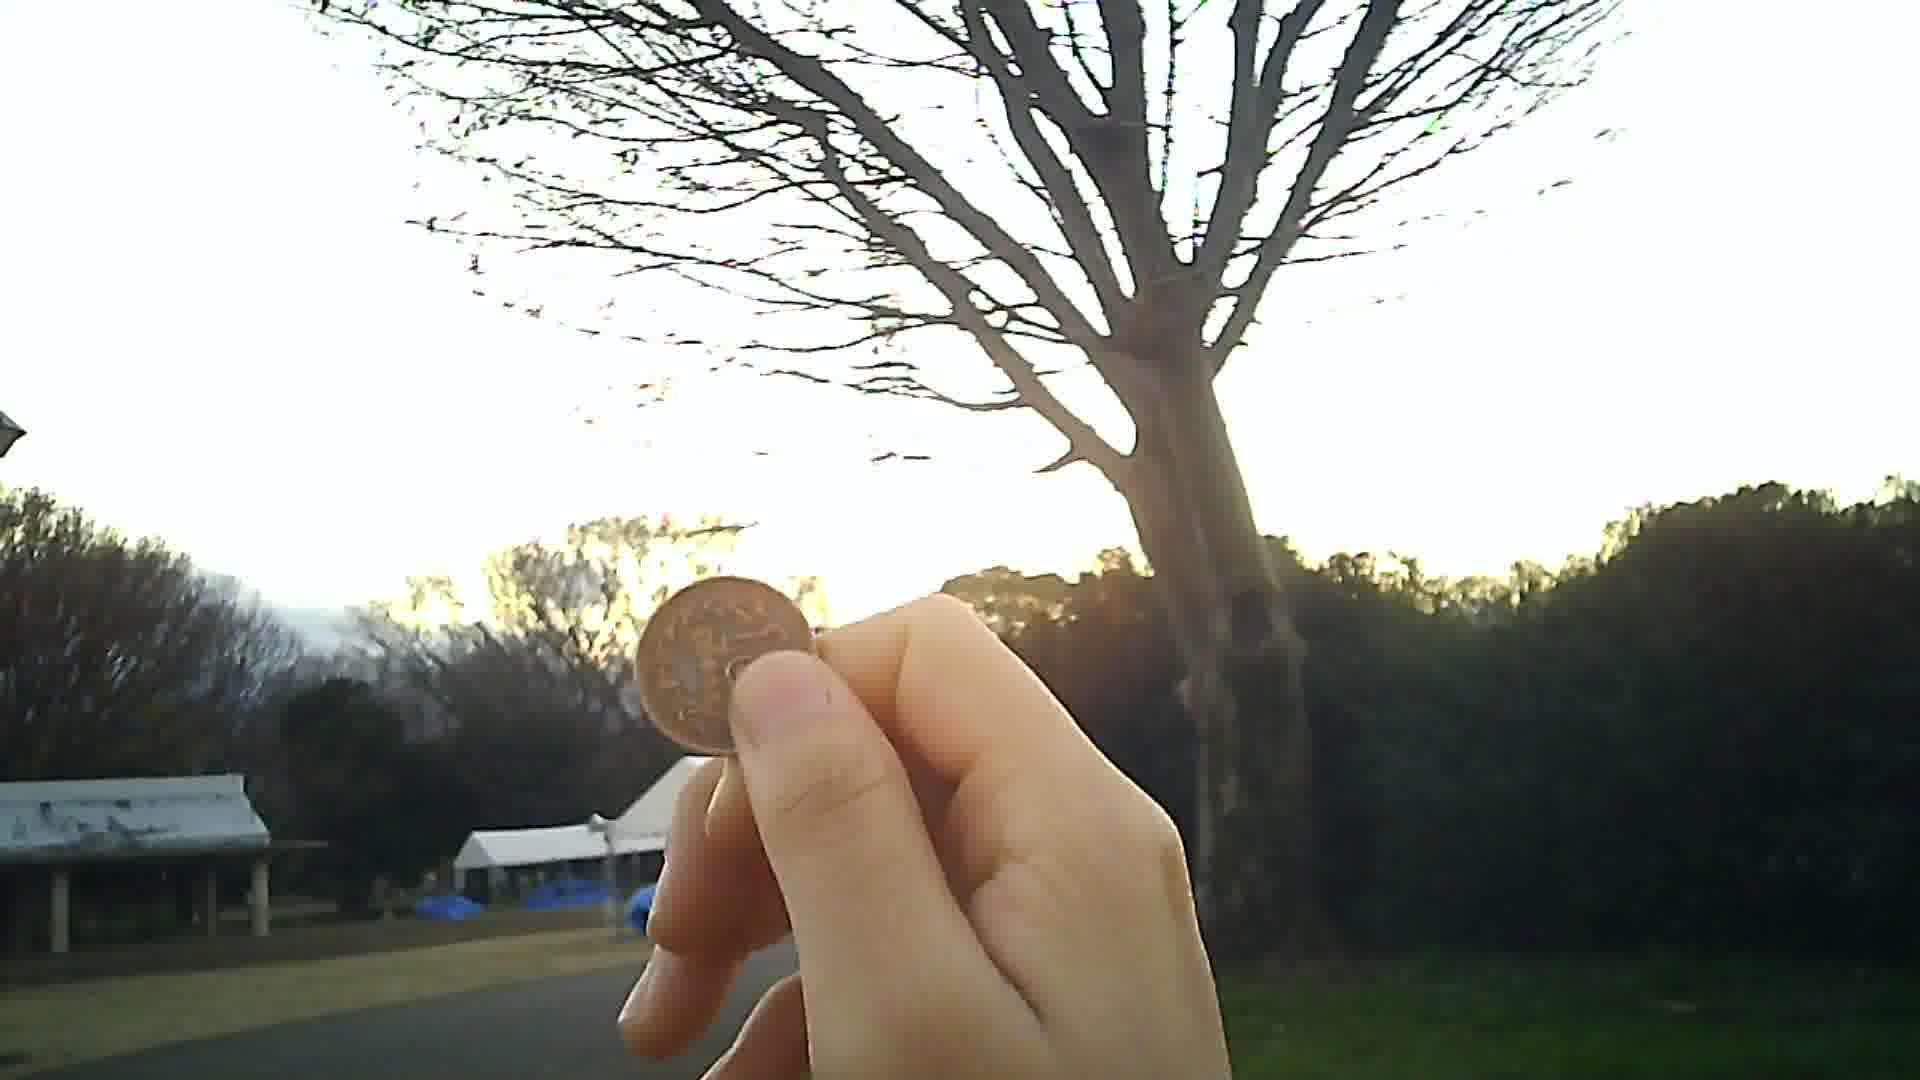10 Yen: (637, 570, 819, 756)
